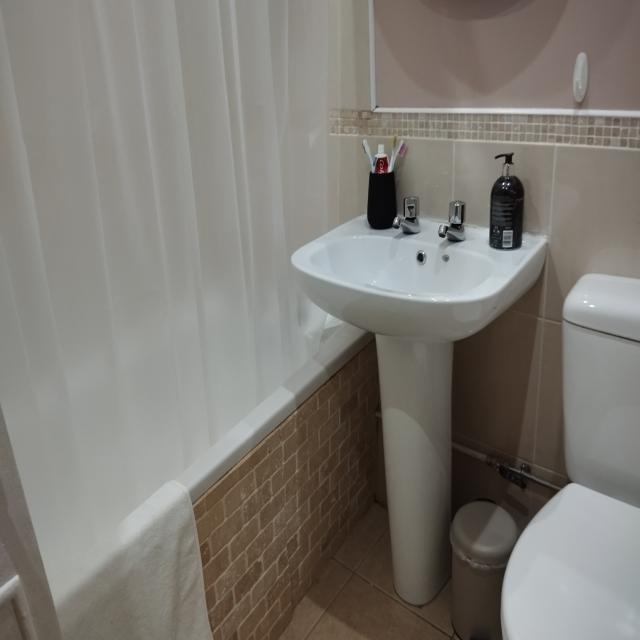bathtube: (175, 332, 379, 640)
table: (500, 274, 640, 640)
wardrobe: (290, 214, 549, 608)
